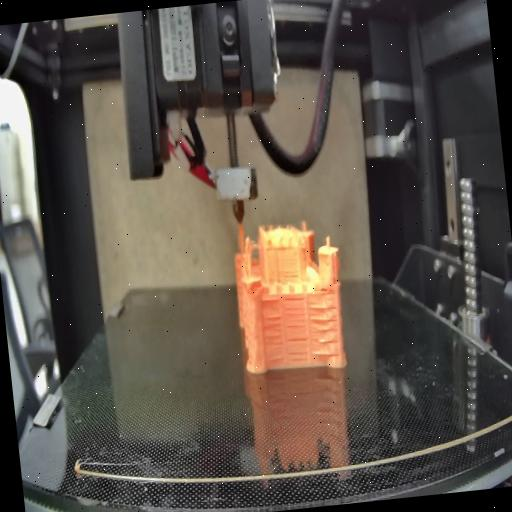cracks: (308, 305, 342, 359), (258, 314, 286, 362), (283, 295, 308, 332), (285, 336, 311, 361), (280, 266, 302, 282), (261, 292, 279, 307), (317, 283, 331, 297)
